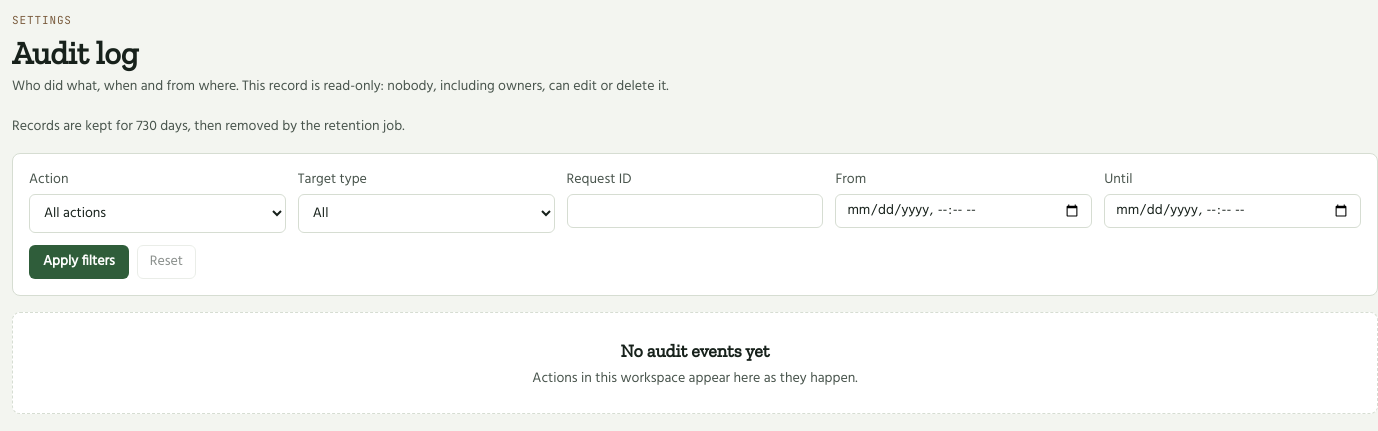
audit log page › explains an empty trail and an empty filter result differently
Expected: the text "No audit events yet" is shown, [621,340,769,362]
In the field labelled "Request ID": (695, 210) [567,194,823,228], type "abc"
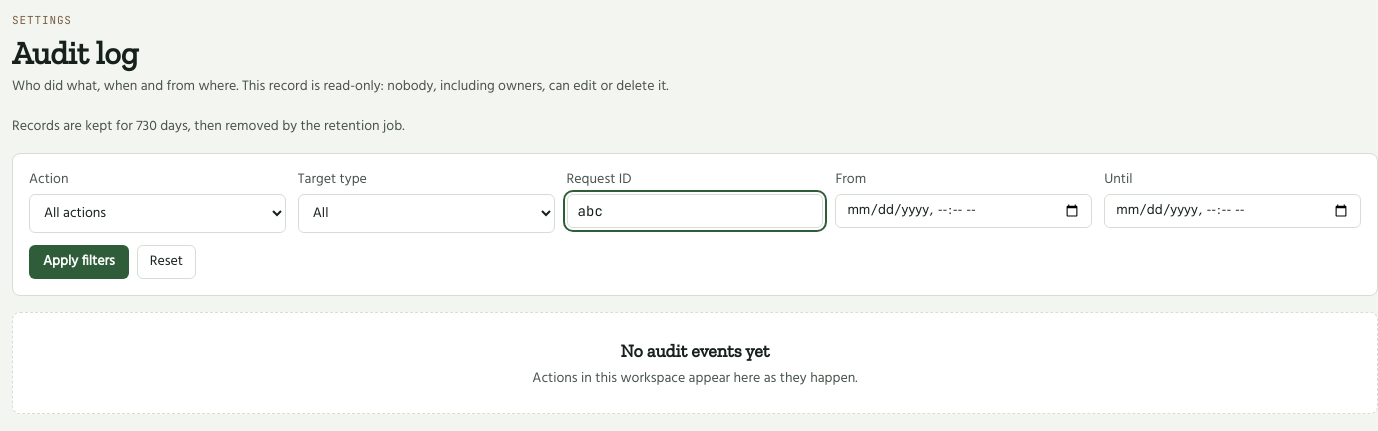
Click the button "Apply filters": (79, 262) [29,244,129,278]
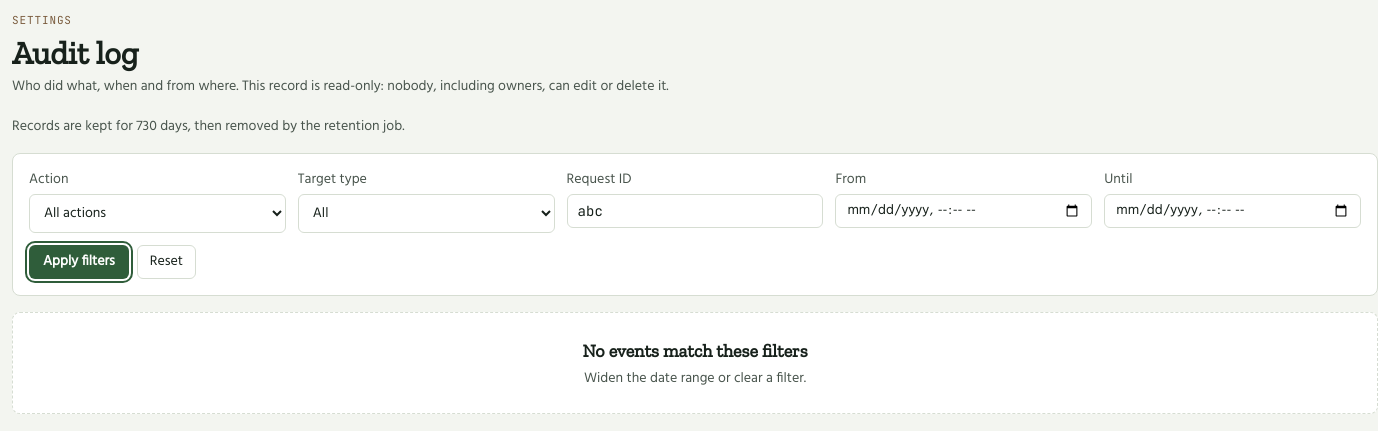
Expected: the text "No events match these filters" is shown, [582,340,808,362]
